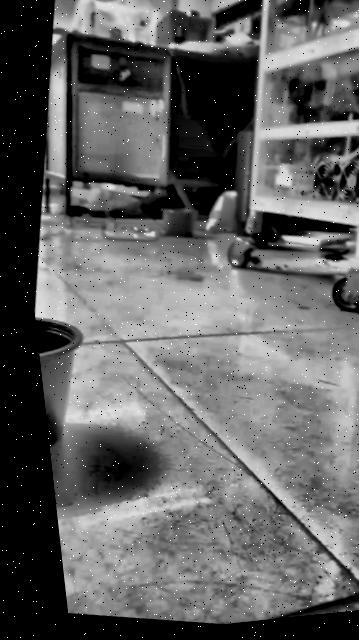pot: (35, 311, 99, 466)
